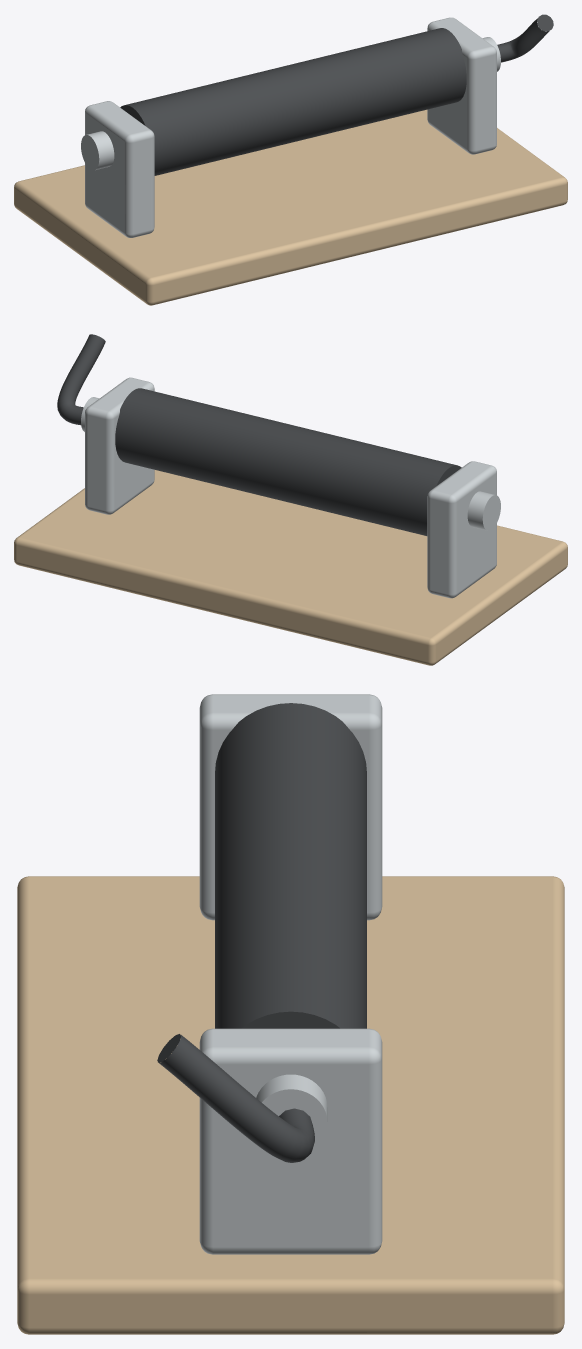
File: camera-repair-and-darkroom-laboratory-roller-print-squ-b999ae10__31811.glb
3 renders of one model, top to bottom at view 1: azimuth 30°, elevation 25°; view 2: azimuth 150°, elevation 25°; view 3: azimuth 270°, elevation 25°, orthographic. The views are drawn at different scales.
Visible parts, largest first — view 1: roller-print-squeegee; view 2: roller-print-squeegee; view 3: roller-print-squeegee.
Part boxes in pixels (left/top/right/bottom): roller-print-squeegee: left=14, top=14, right=567, bottom=305; roller-print-squeegee: left=14, top=334, right=567, bottom=665; roller-print-squeegee: left=17, top=694, right=564, bottom=1334.
Bounding box in the file's own units: 0.3393 × 0.1145 × 0.18.
